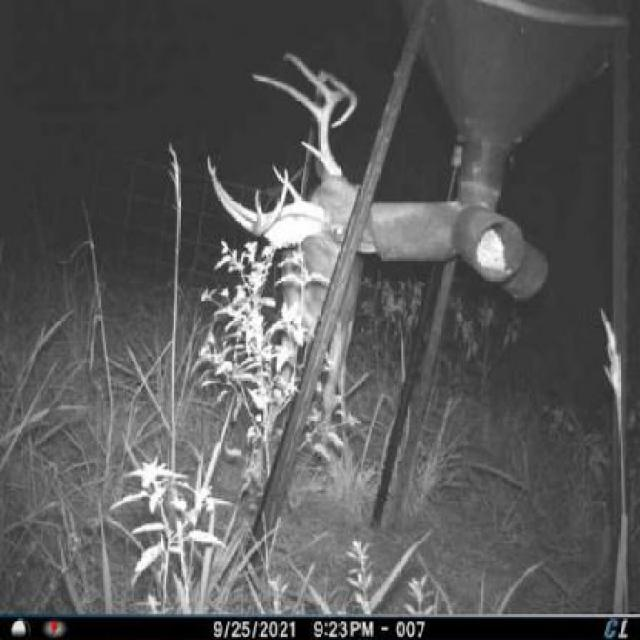Deer: (197, 36, 372, 482)
